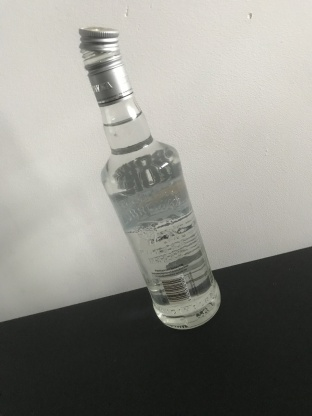nakretka: (77, 24, 134, 108)
